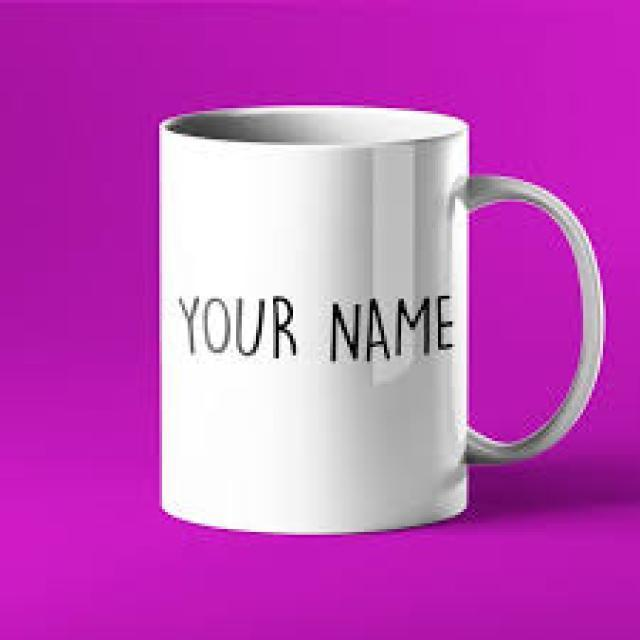taza: (145, 89, 622, 549)
